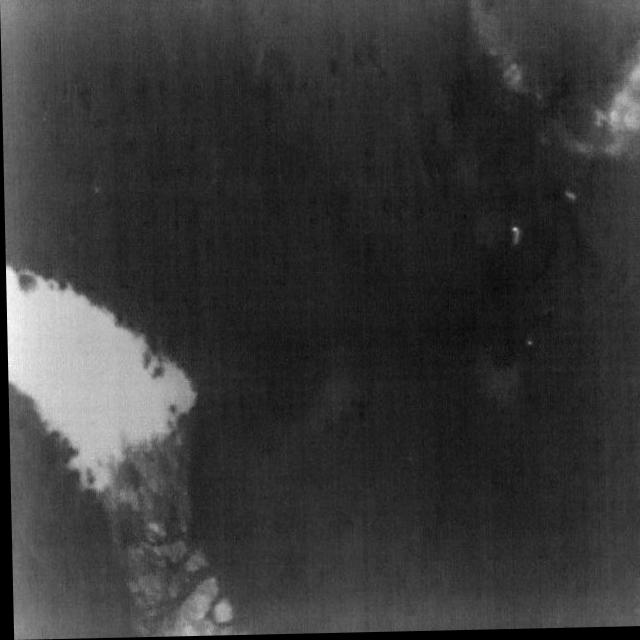deer: (509, 229, 521, 249), (563, 193, 575, 203)
